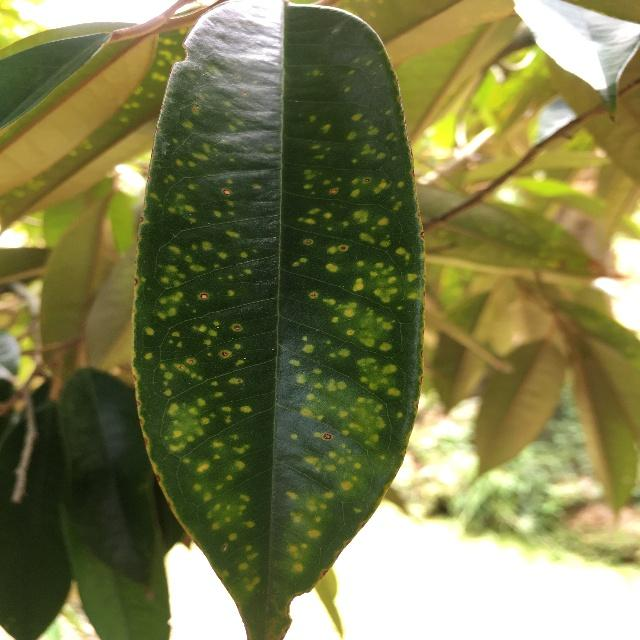Leaf Spot: (123, 0, 433, 640)
